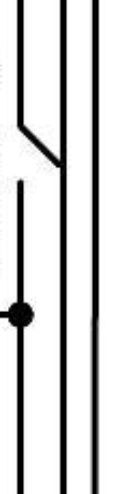115_ds: (16, 124, 60, 188)
